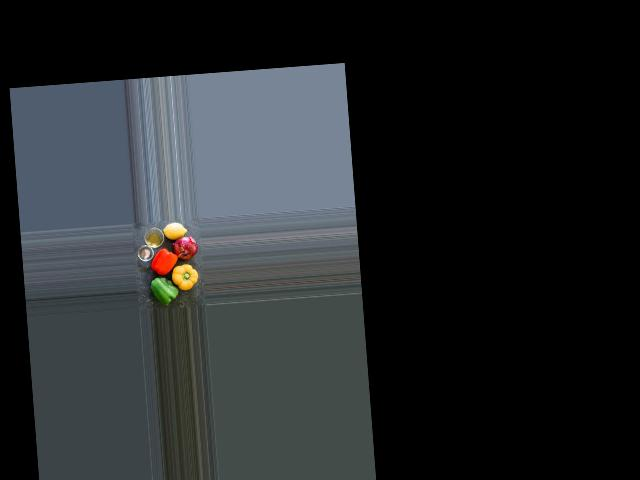bell_pepper: (148, 247, 179, 275)
